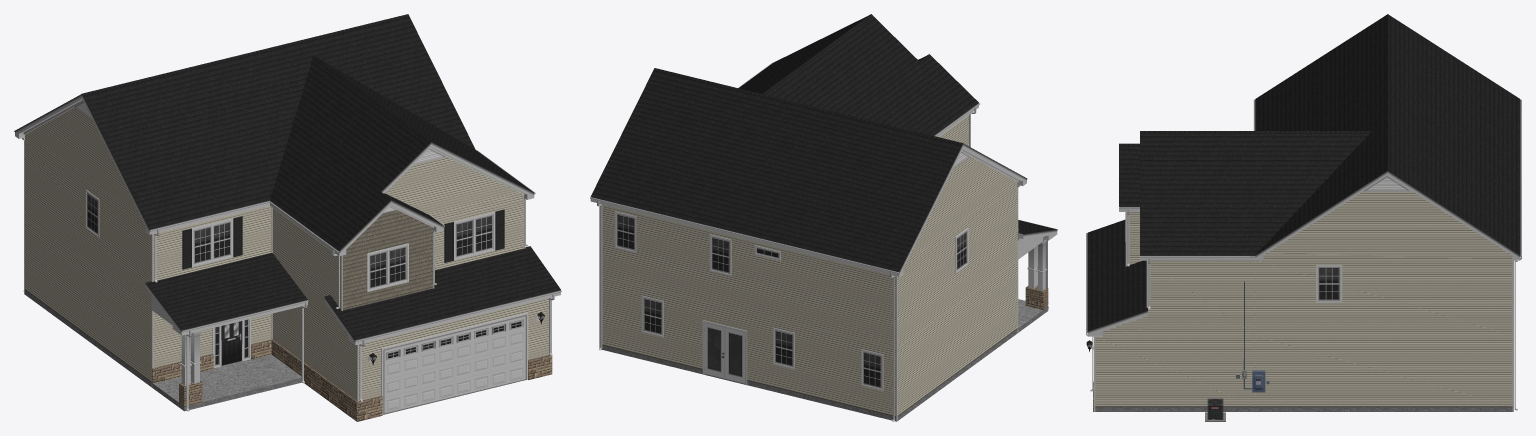
The model's file is house16_mirror2.fbx.
The picture shows the model from 3 angles, left to right: view 1: azimuth 30°, elevation 25°; view 2: azimuth 150°, elevation 25°; view 3: azimuth 270°, elevation 25°; orthographic projection. The views are drawn at different scales.
Parts seen in each view (by area): view 1: house16_mirror2_LOD0; view 2: house16_mirror2_LOD0; view 3: house16_mirror2_LOD0.
Part boxes in pixels (box(x1,y1,x2,y2)): house16_mirror2_LOD0: box(14, 14, 561, 421); house16_mirror2_LOD0: box(590, 14, 1057, 421); house16_mirror2_LOD0: box(1086, 14, 1521, 421).
Size of what is drawn, in the model's own units: 3.69 by 2.58 by 4.16.
